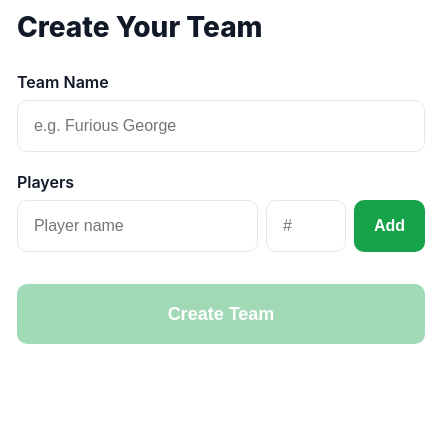
Test case: SetupPage › removes a player when ✕ is clicked
This screenshot has width=443, height=421.
Step 1. Type "Marie" into the field with placeholder "Player name" → (137, 226), box [17, 200, 258, 252]
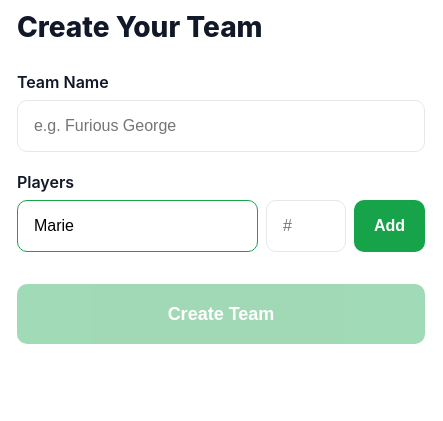
Step 2. Click the button "Add" → (389, 226), box [354, 200, 425, 252]
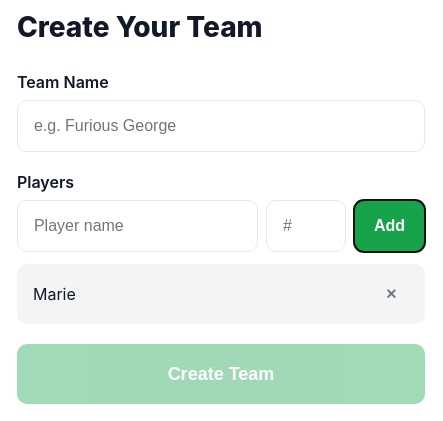
Step 3. Click the button "✕" → (391, 294), box [373, 276, 409, 312]
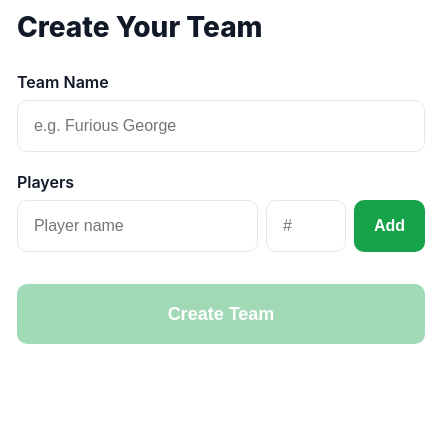
Now the text "Marie" is gone
